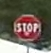stop: (12, 13, 42, 41)
